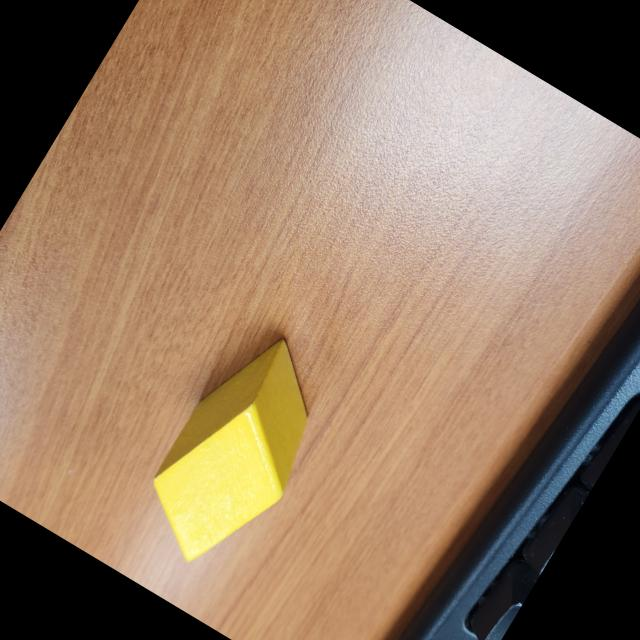yellow: (125, 318, 352, 588)
